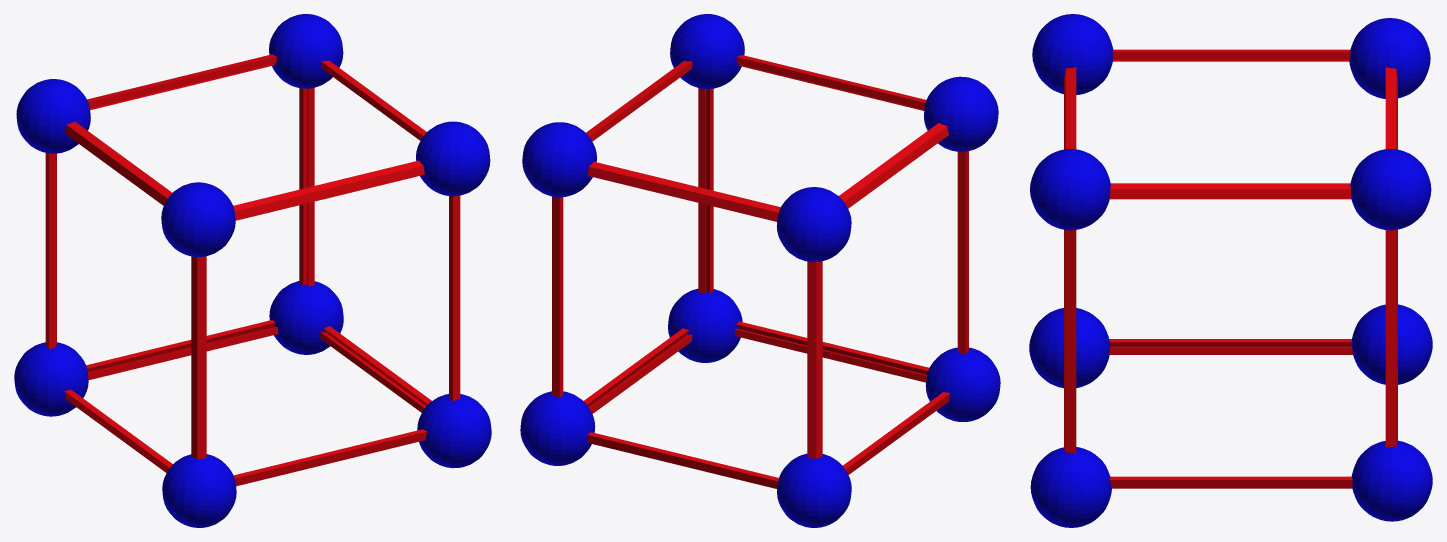
The model's file is vertice-cubo.glb.
The picture shows the model from 3 angles, left to right: view 1: azimuth 30°, elevation 25°; view 2: azimuth 150°, elevation 25°; view 3: azimuth 270°, elevation 25°; orthographic projection. The views are drawn at different scales.
Parts seen in each view (by area): view 1: Cube.001, Sphere, Sphere.001, Sphere.007, Sphere.004, Sphere.005, Sphere.006, Sphere.002, Sphere.003; view 2: Cube.001, Sphere.002, Sphere.006, Sphere.005, Sphere.003, Sphere.007, Sphere, Sphere.001, Sphere.004; view 3: Cube.001, Sphere.005, Sphere.007, Sphere.003, Sphere.004, Sphere, Sphere.002, Sphere.006, Sphere.001.
Part boxes in pixels (box(x1,y1,x2,y2)): Cube.001: box(45, 54, 460, 486); Sphere: box(161, 182, 235, 256); Sphere.001: box(162, 454, 236, 527); Sphere.007: box(416, 121, 490, 196); Sphere.004: box(417, 394, 491, 468); Sphere.005: box(269, 14, 343, 88); Sphere.006: box(14, 342, 88, 416); Sphere.002: box(16, 79, 90, 153); Sphere.003: box(269, 281, 343, 354); Cube.001: box(552, 55, 968, 488); Sphere.002: box(776, 187, 851, 261); Sphere.006: box(777, 453, 851, 527); Sphere.005: box(522, 122, 596, 197); Sphere.003: box(520, 391, 595, 465); Sphere.007: box(670, 14, 744, 88); Sphere: box(924, 76, 998, 151); Sphere.001: box(925, 347, 1000, 421); Sphere.004: box(668, 288, 742, 362); Cube.001: box(1064, 49, 1397, 488); Sphere.005: box(1350, 149, 1431, 230); Sphere.007: box(1030, 149, 1110, 230); Sphere.003: box(1351, 440, 1432, 521); Sphere.004: box(1030, 447, 1111, 527); Sphere: box(1032, 14, 1113, 94); Sphere.002: box(1349, 18, 1430, 98); Sphere.006: box(1351, 304, 1432, 384); Sphere.001: box(1029, 308, 1110, 388).
Size of the model in its own units: 2.47 by 2.51 by 2.48.
